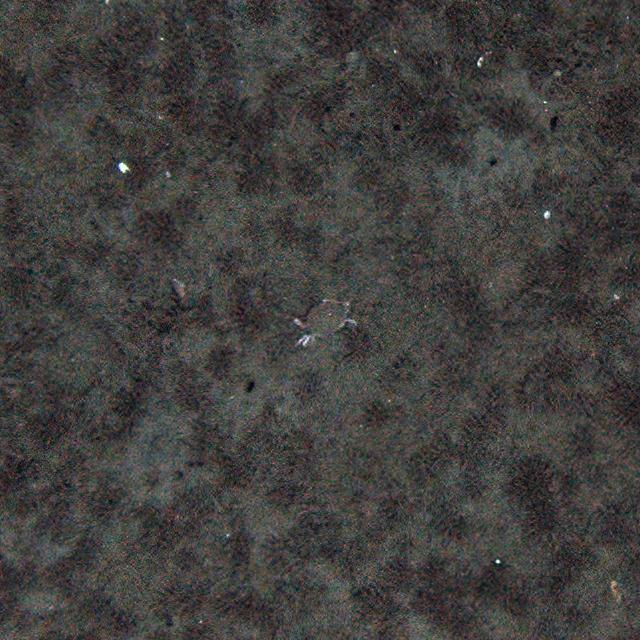crab: (293, 296, 359, 348)
